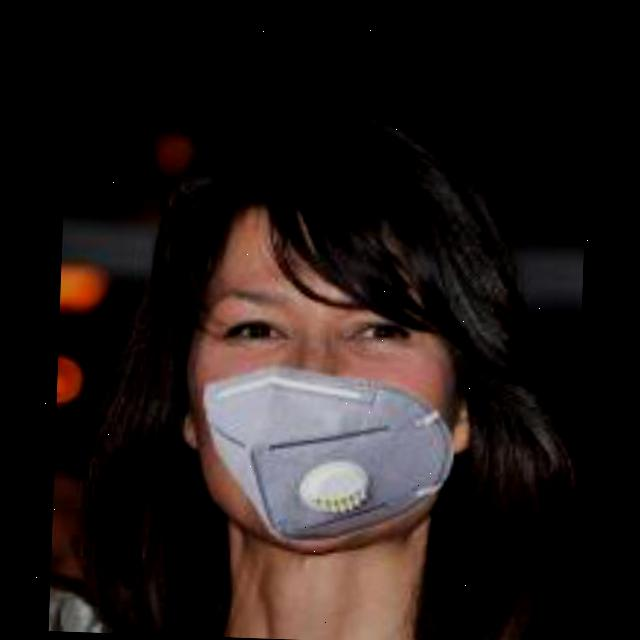suspicion: (130, 182, 493, 586)
